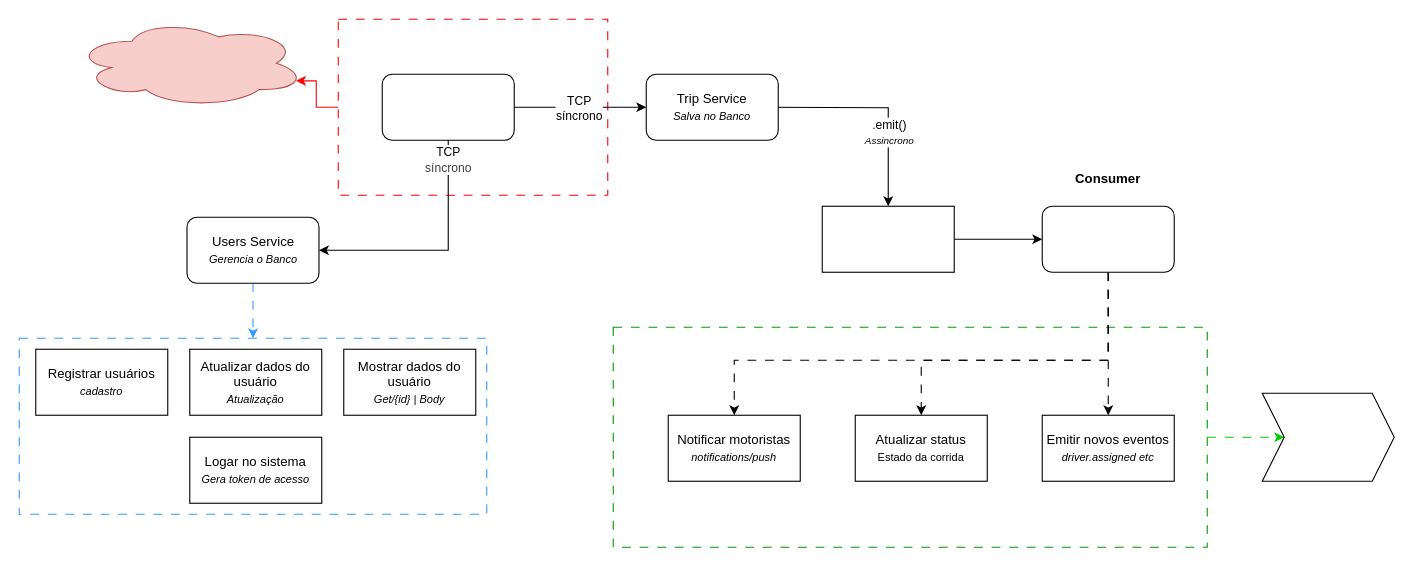
Image size: 1414x567. Some labels were removed from this diagram. The shapes that lost their labels are listed below. From the top down, each one's box as (x1, y1, x2, y2) in pixels, then its label:
(73, 18, 305, 107): Avaliar essa abrodagem
(381, 73, 514, 140): API Gateway NestJS HTTP
(821, 205, 954, 272): Kafka Broker Tópico: trip.requested
(1041, 205, 1174, 272): Dispatch Service @EventPattern
(1261, 392, 1394, 481): Implementar funções
